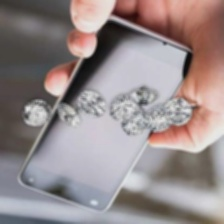phone: (14, 10, 199, 215)
